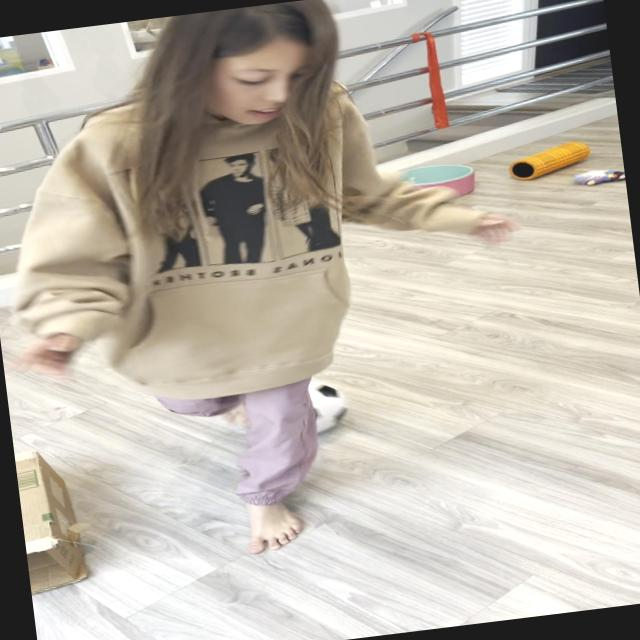Soccer Ball: (240, 375, 349, 444)
